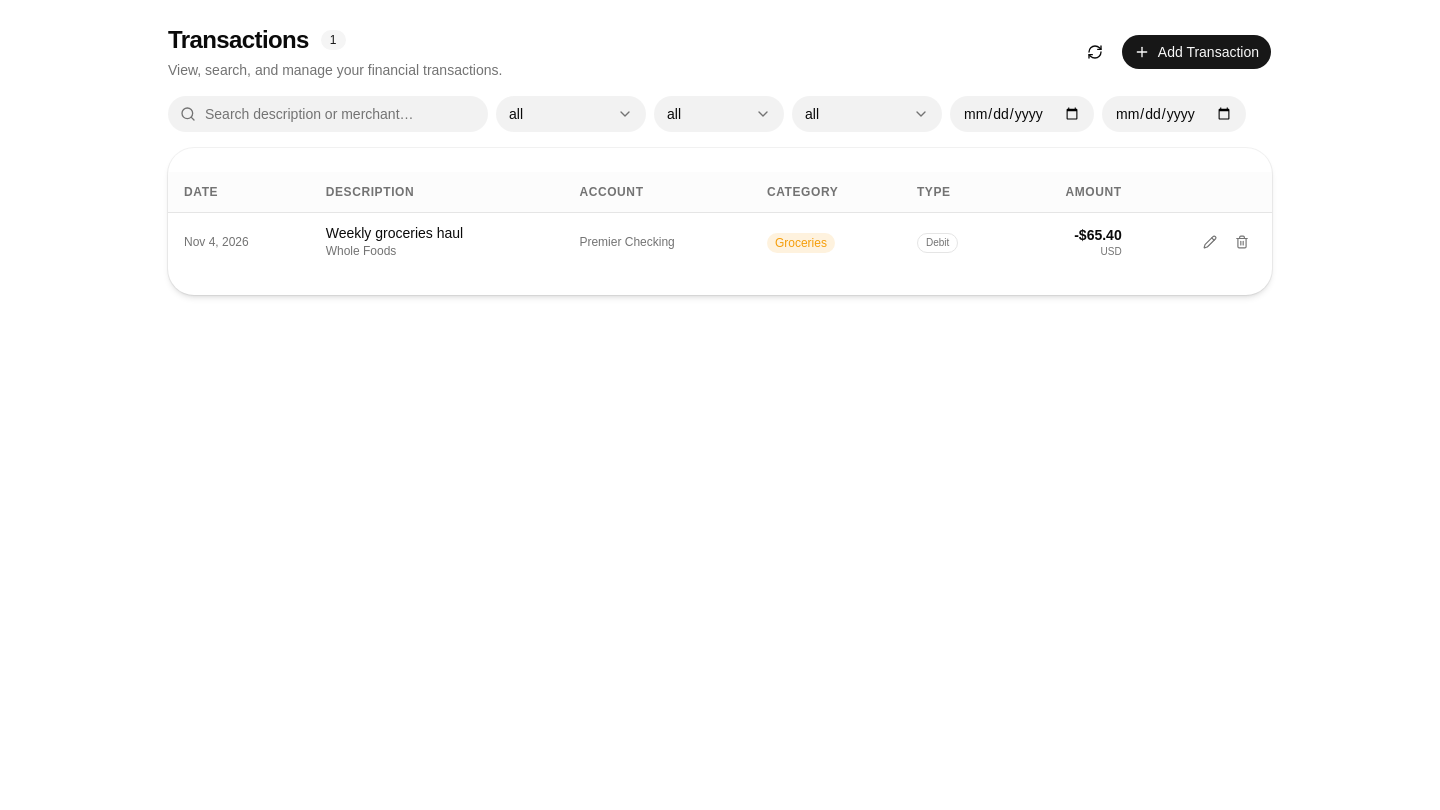
Test: TransactionsPage › 5. opens Add Transaction sheet, validates, submits successfully and invalidates queries
The width and height of the screenshot is (1440, 810).
Click the button with test id "add-transaction-btn" at [1196, 52], box 1121,34 -> 1272,70
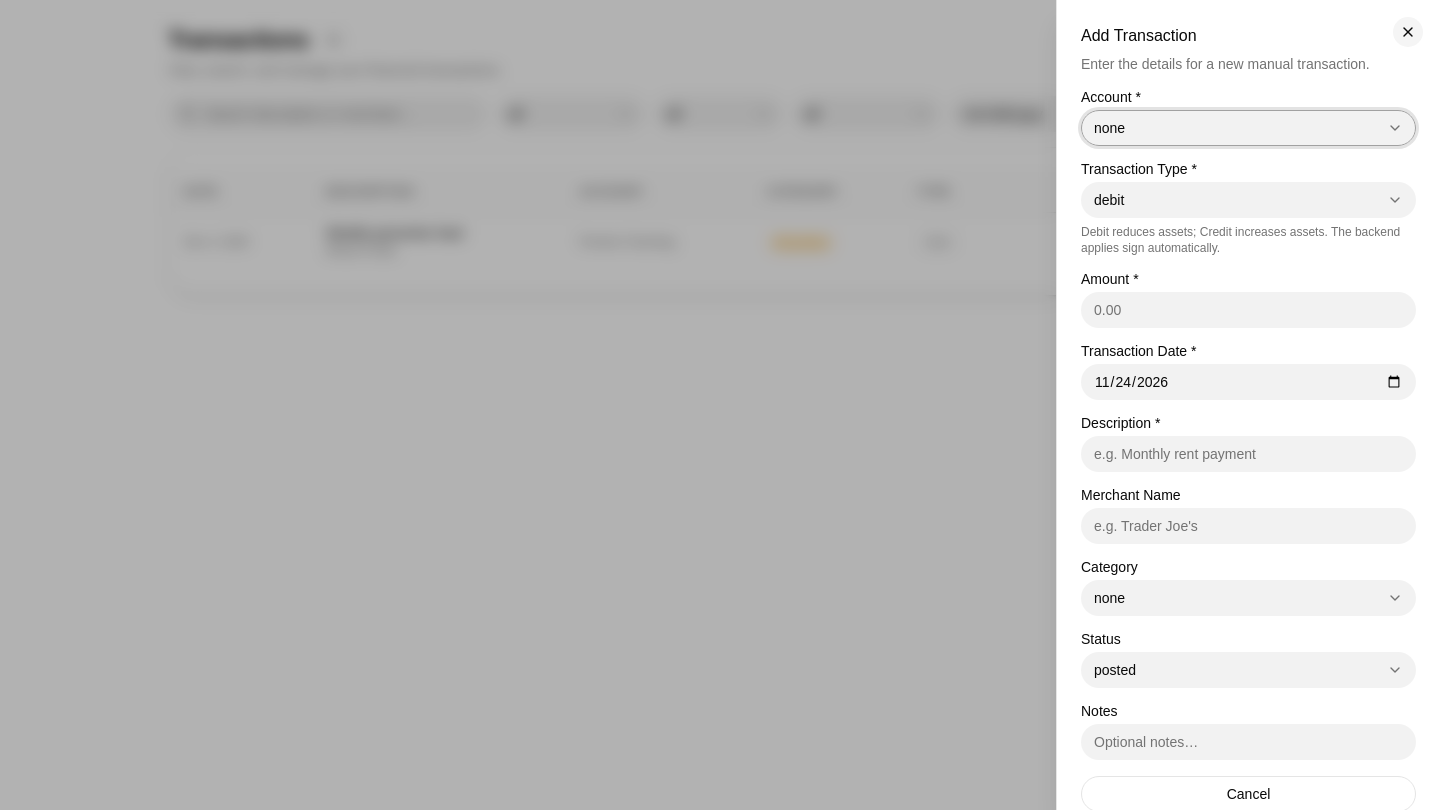
Now the form with test id "transaction-form" is shown, box 1057,90 -> 1439,768
Fill form fields
Type "4.75" into the number field with test id "tx-amount-input" at [1248, 310], box 1081,292 -> 1416,328
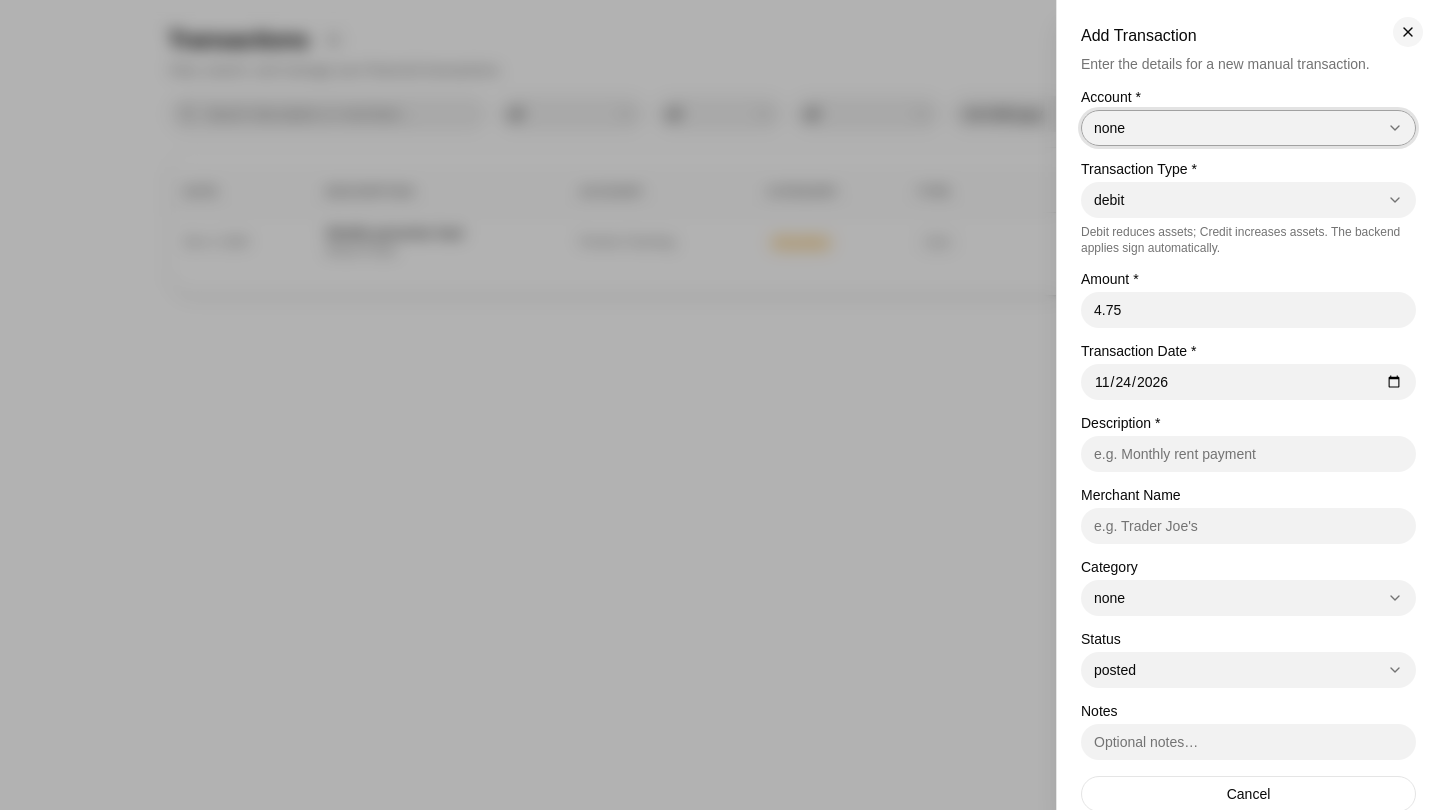
Type "2026-11-10" into the date field with test id "tx-date-input" at [1248, 382], box 1081,364 -> 1416,400
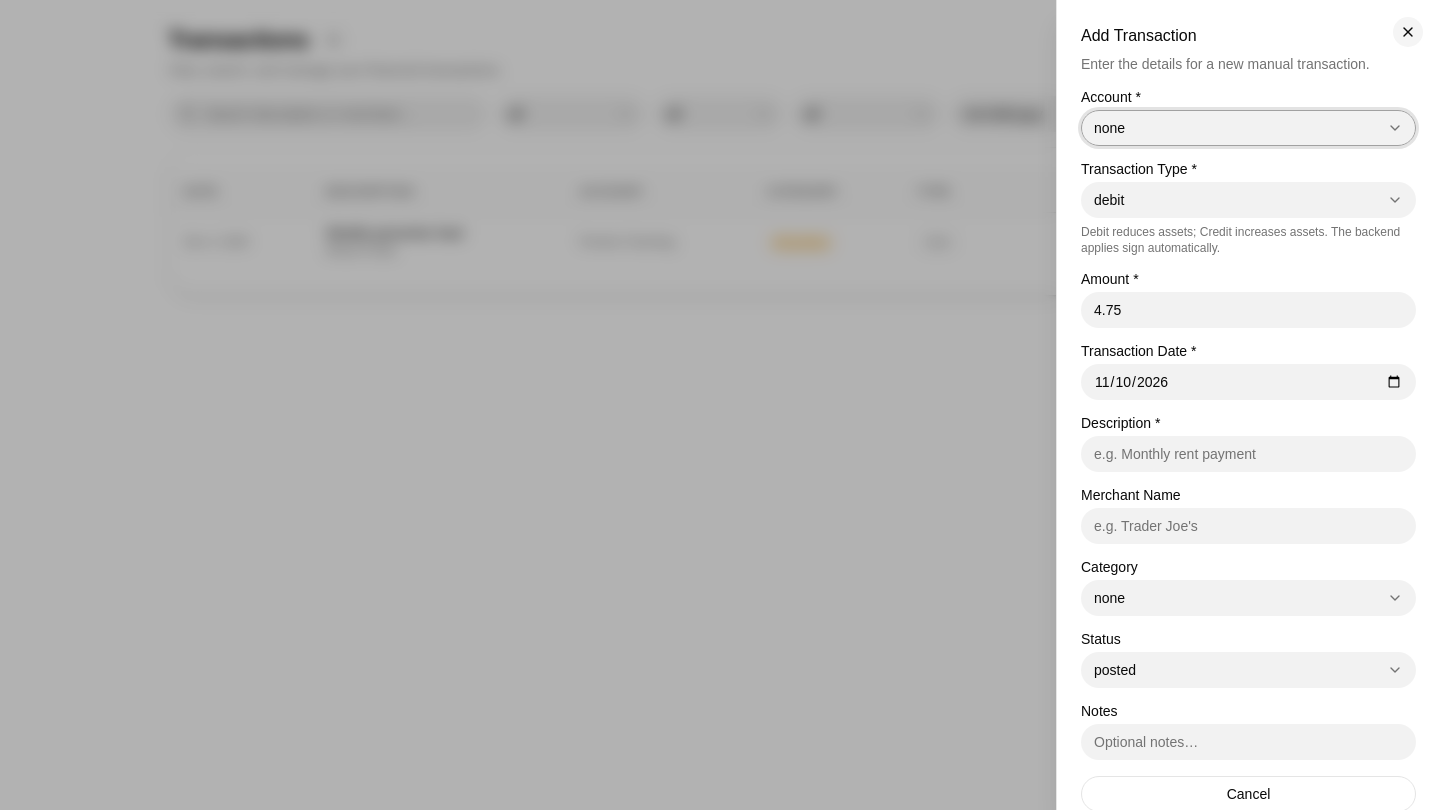
Type "Coffee run" into the field with test id "tx-description-input" at [1248, 454], box 1081,436 -> 1416,472
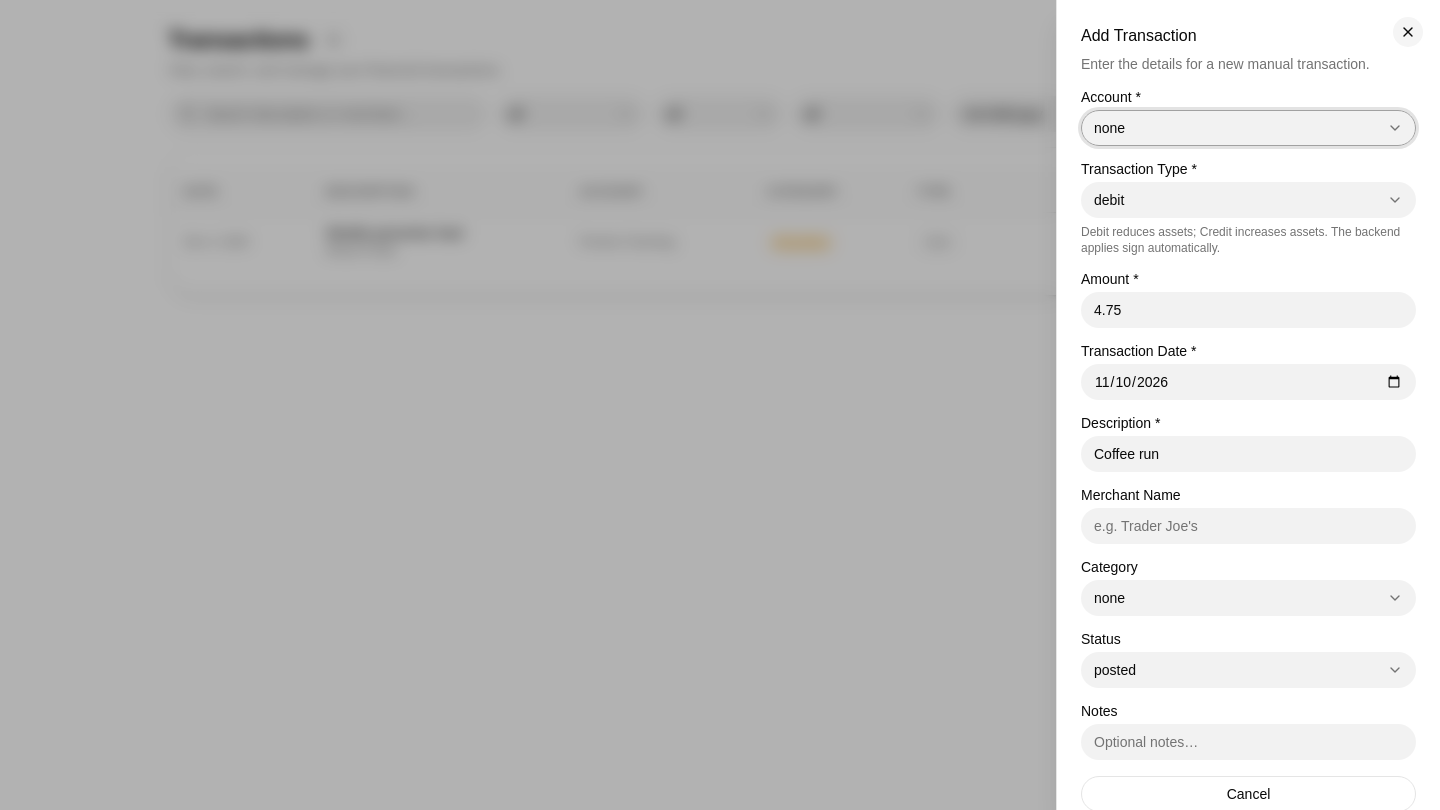
Type "Blue Bottle" into the field with test id "tx-merchant-input" at [1248, 526], box 1081,508 -> 1416,544
(page scrolled)
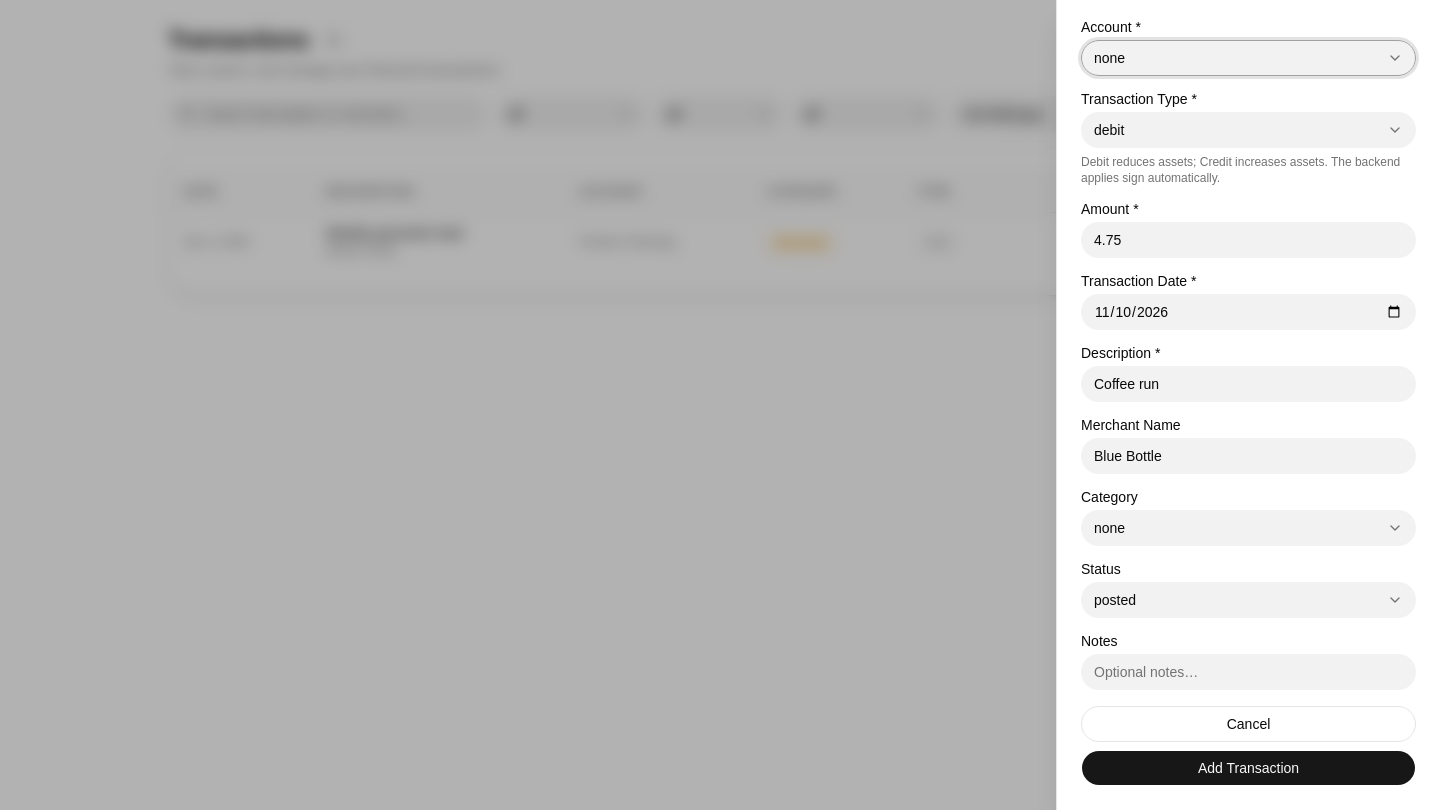
Submit form (without selecting account first to check validation)
Click the button with test id "save-transaction-btn" at [1248, 768], box 1081,750 -> 1416,786
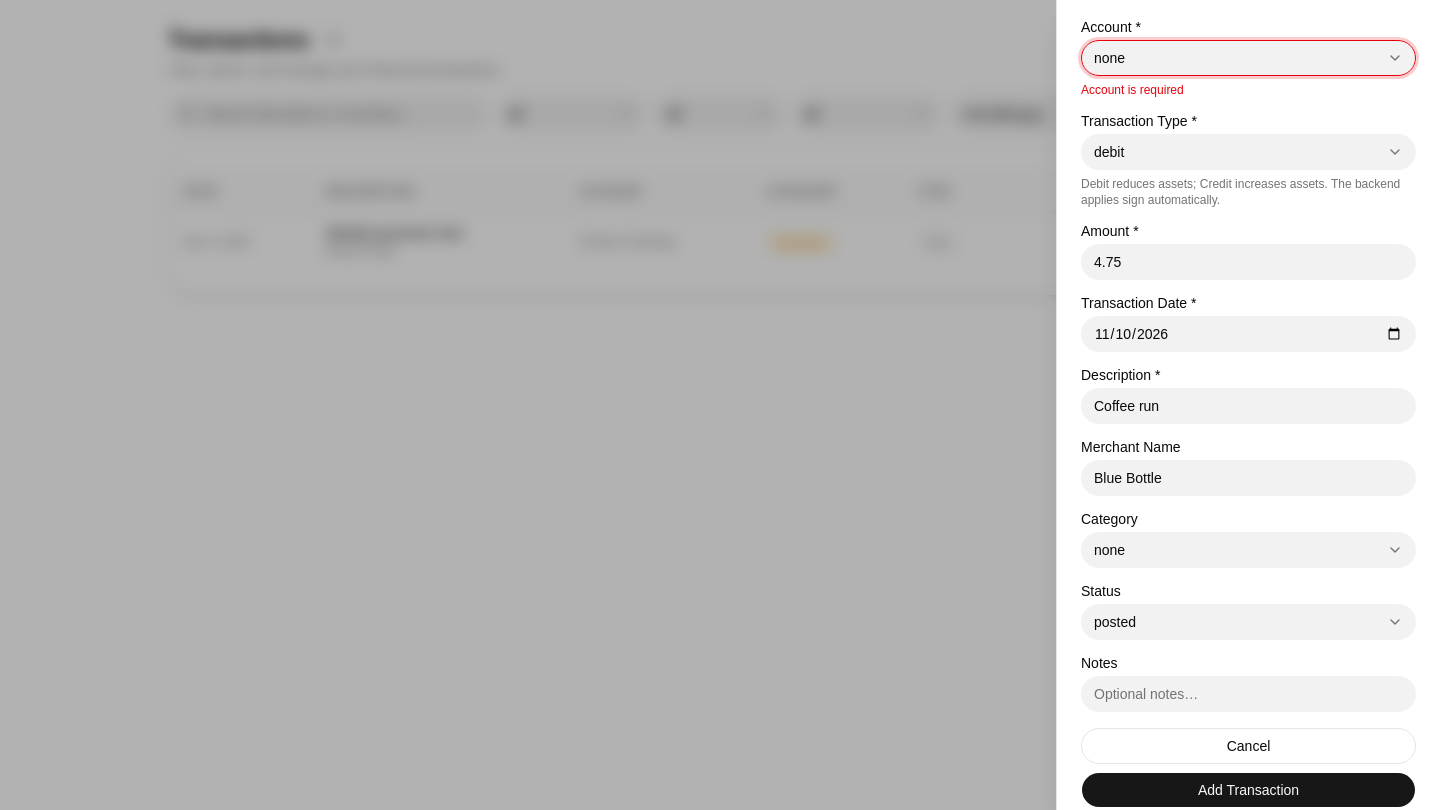
Now the text "Account is required" is shown, box 1081,83 -> 1184,97
